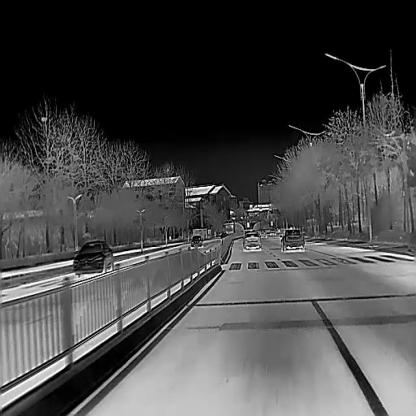car: (72, 239, 113, 276), (280, 228, 304, 251), (242, 231, 261, 251), (190, 234, 203, 249)
